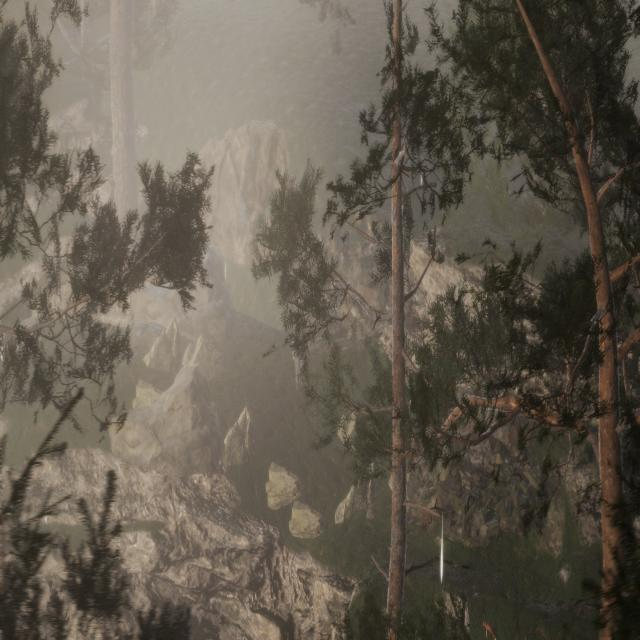Human: (284, 274, 312, 394)
